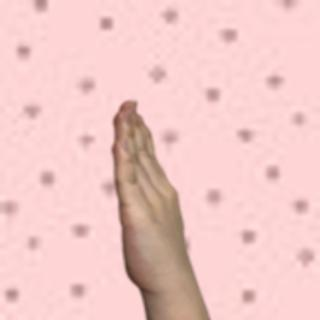RIGHT: (110, 95, 194, 290)
